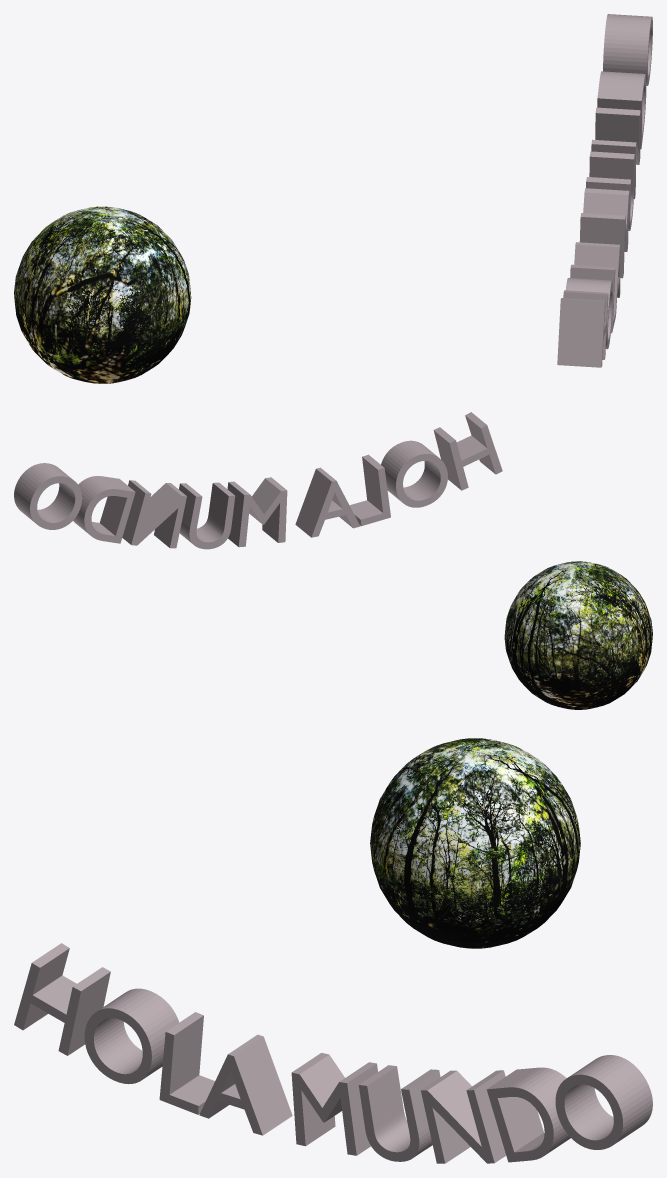
Rendered from escena07042024.glb.
3 renders of one model, top to bottom at view 1: azimuth 30°, elevation 25°; view 2: azimuth 150°, elevation 25°; view 3: azimuth 270°, elevation 25°, orthographic. The views are drawn at different scales.
Visible parts, largest first — view 1: Sphere, Text; view 2: Text, Sphere; view 3: Text, Sphere.
Boxes of the visible parts, x1=… form: Sphere: x1=14, y1=206, x2=191, y2=383; Text: x1=557, y1=14, x2=652, y2=367; Text: x1=14, y1=412, x2=502, y2=549; Sphere: x1=504, y1=561, x2=652, y2=709; Text: x1=14, y1=943, x2=652, y2=1163; Sphere: x1=370, y1=738, x2=580, y2=948.
Bounding box in the file's own units: 8.96 × 2.2 × 6.06.
Materials: 2 (1 with a texture image).
